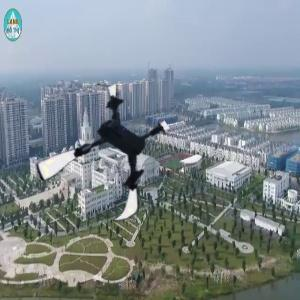drone: (38, 88, 175, 225)
